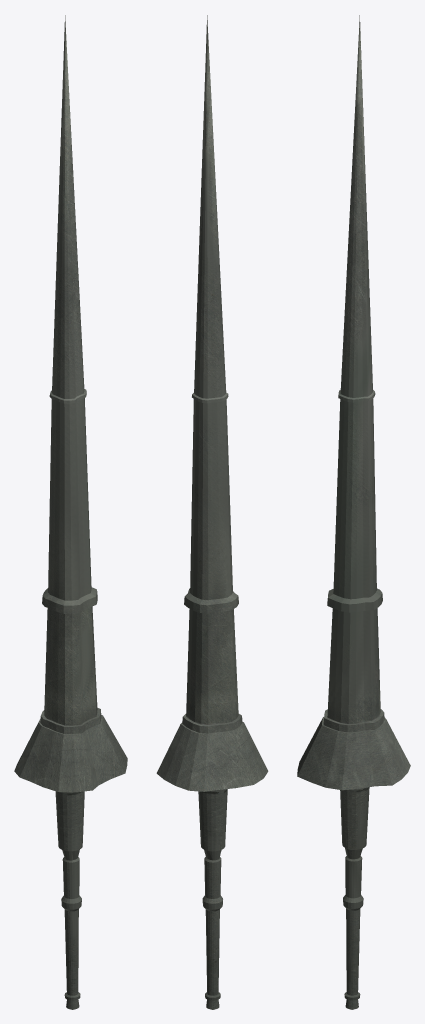
Rendered from Character_Lance_001_V006.fbx.
3 renders of one model, left to right at view 1: azimuth 90°, elevation 25°; view 2: azimuth 150°, elevation 25°; view 3: azimuth 270°, elevation 25°, orthographic.
Visible parts, largest first — view 1: Character_Lance; view 2: Character_Lance; view 3: Character_Lance.
Boxes of the visible parts, bbox=[...] form: Character_Lance: bbox=[14, 15, 127, 1009]; Character_Lance: bbox=[156, 15, 268, 1009]; Character_Lance: bbox=[297, 15, 410, 1009].
Bounding box in the file's own units: 56.66 × 563 × 58.16.
